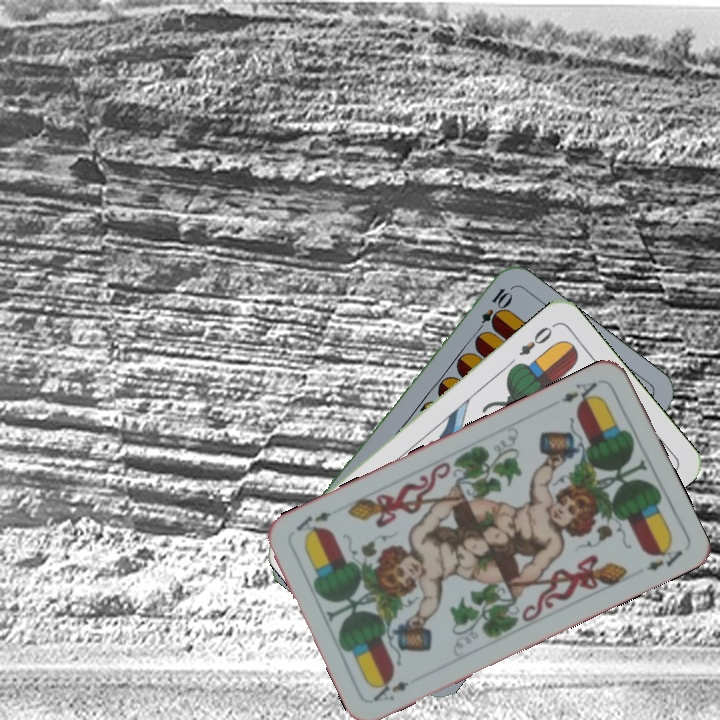E10: (471, 284, 514, 338)
EA: (557, 377, 603, 409), (368, 674, 411, 704)
EO: (515, 322, 555, 359)
